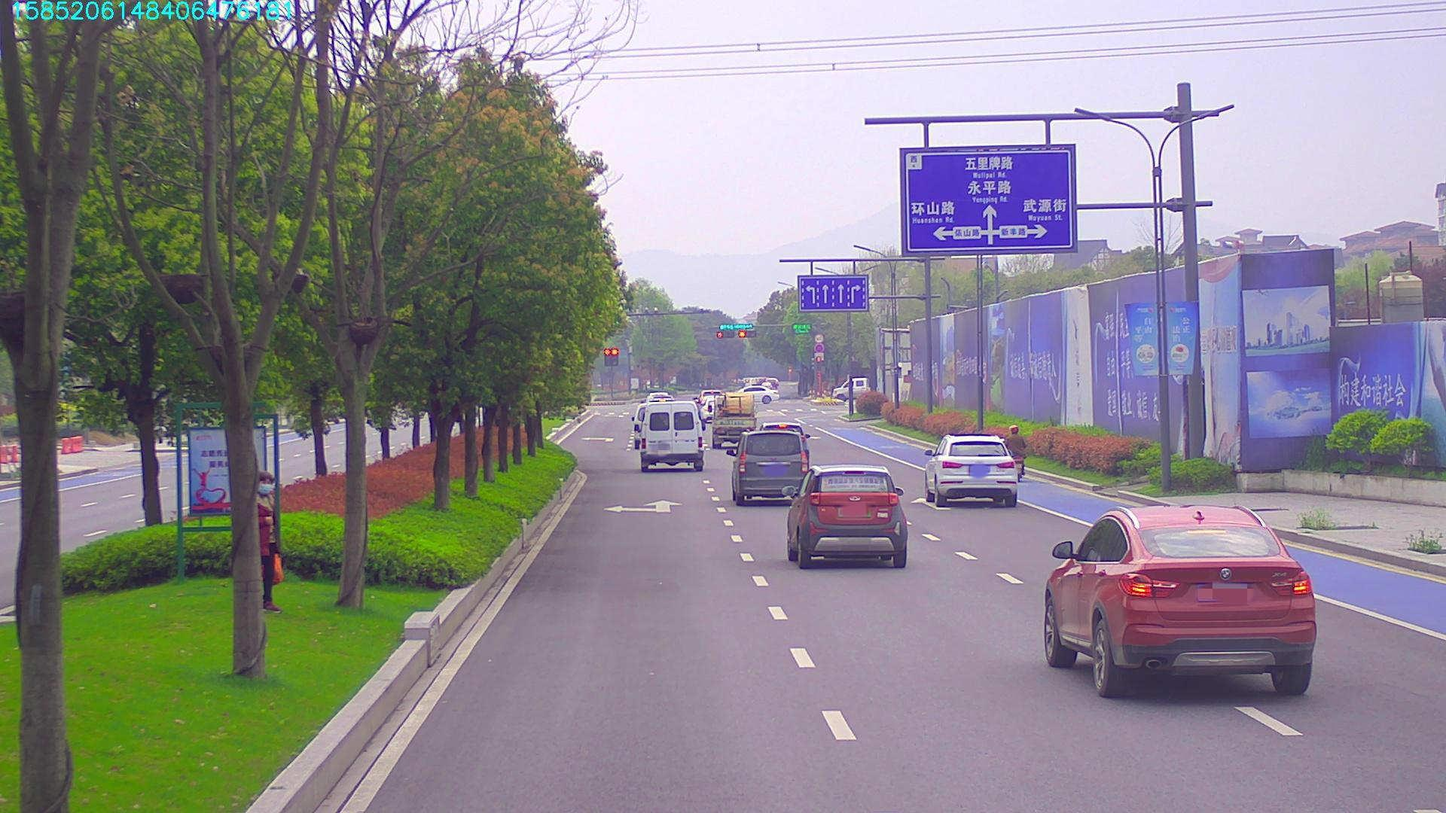red: (715, 327, 729, 341), (734, 327, 749, 339)
wait_on: (724, 319, 751, 330)
